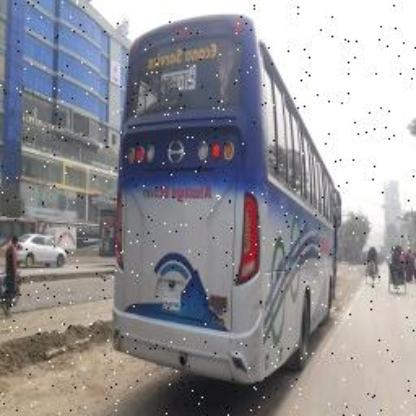bus: (103, 7, 343, 377)
